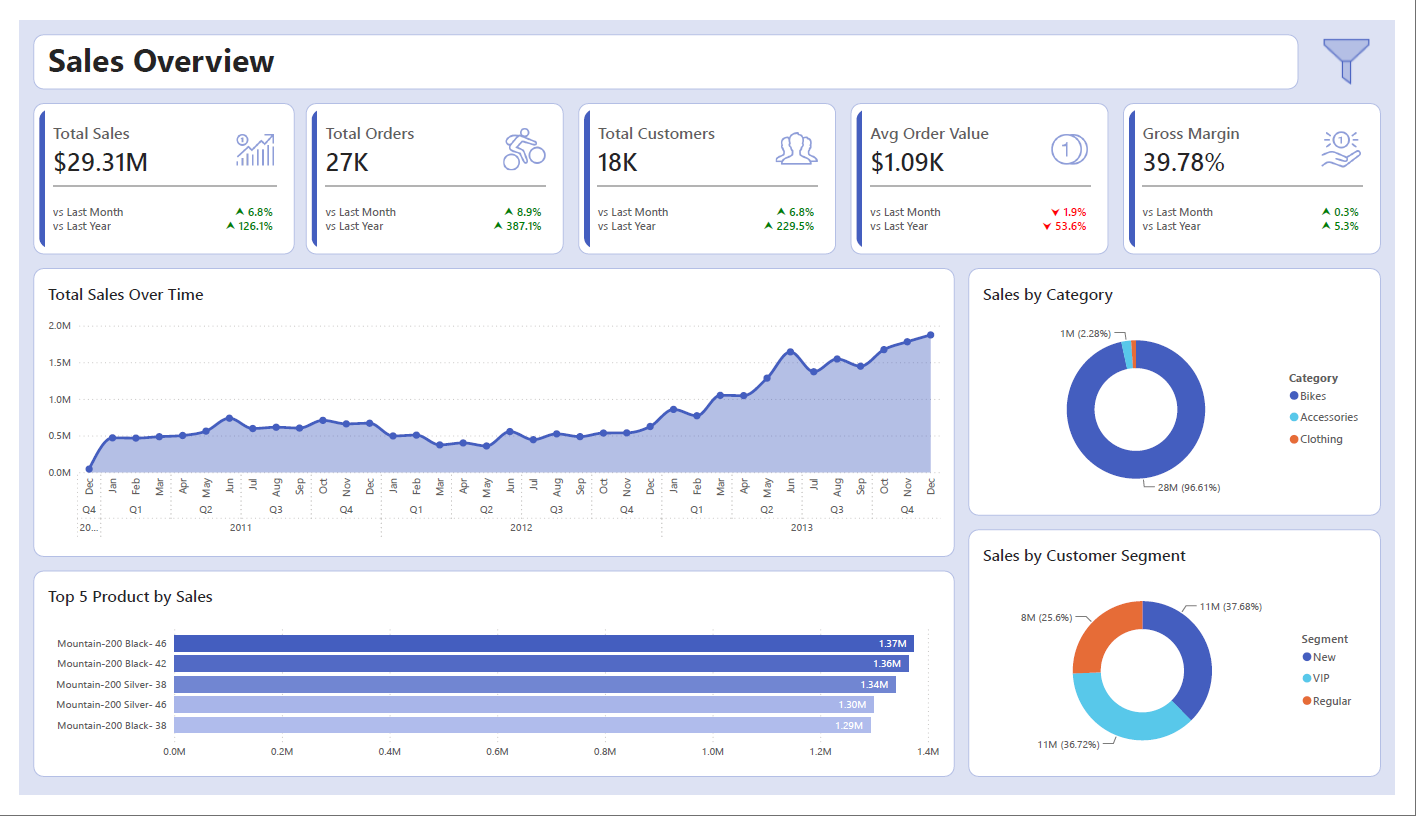

This screenshot's page, from the dashboard's own definition file:
{"tool":"powerbi","page":{"name":"Sales Overview Filter Pane","canvas":[1600,900],"ordinal":0},"visuals":[{"type":"clusteredBarChart","title":"Top 5 Product by Sales","fields":{"Category":["gold report_products.product_name"],"Y":["_Measures.Total Sales"]},"box":[16,640,1072,240],"z":5000},{"type":"donutChart","title":"Sales by Customer Segment","fields":{"Category":["gold report_customers.customer_segment"],"Y":["_Measures.Total Sales"]},"box":[1104,592,480,288],"z":7000},{"type":"donutChart","title":"Sales by Category","fields":{"Category":["gold report_products.category"],"Y":["_Measures.Total Sales"]},"box":[1104,288,480,288],"z":8000},{"type":"lineChart","title":"Total Sales Over Time","fields":{"Y":["_Measures.Total Sales"],"Category":["dim_date.Year Hierarchy.Year","dim_date.Year Hierarchy.Quarter","dim_date.Year Hierarchy.Month Short"]},"box":[16,288,1072,336],"z":9000},{"type":"cardVisual","fields":{"Data":["_Measures.Gross Margin %"]},"box":[1283.6,96.4,300,175.5],"z":11000},{"type":"cardVisual","fields":{"Data":["_Measures.Avg Order Value"]},"box":[966.8,96,300.3,176],"z":11007},{"type":"cardVisual","fields":{"Data":["_Measures.Total Customers"]},"box":[649.9,96,300.3,176],"z":11015},{"type":"cardVisual","fields":{"Data":["_Measures.Total Orders"]},"box":[332.9,96,300.3,176],"z":11031},{"type":"cardVisual","fields":{"Data":["_Measures.Total Sales"]},"box":[16,96,304,176],"z":11062},{"type":"actionButton","box":[16,16,1472,64],"z":11125},{"type":"actionButton","title":"Filter Button","box":[1504,16,80,64],"z":11250}]}

Visuals, with their boxes in screenshot pixels (x1, y1, x2, y2), scaled from the page's 1600x900 canvas onto the 1416x816 screenshot:
"Top 5 Product by Sales" clusteredBarChart: pyautogui.locateOnScreen(14, 580, 963, 798)
"Sales by Customer Segment" donutChart: pyautogui.locateOnScreen(977, 537, 1402, 798)
"Sales by Category" donutChart: pyautogui.locateOnScreen(977, 261, 1402, 522)
"Total Sales Over Time" lineChart: pyautogui.locateOnScreen(14, 261, 963, 566)
cardVisual - _Measures.Gross Margin %: pyautogui.locateOnScreen(1136, 87, 1401, 247)
cardVisual - _Measures.Avg Order Value: pyautogui.locateOnScreen(856, 87, 1121, 247)
cardVisual - _Measures.Total Customers: pyautogui.locateOnScreen(575, 87, 841, 247)
cardVisual - _Measures.Total Orders: pyautogui.locateOnScreen(295, 87, 560, 247)
cardVisual - _Measures.Total Sales: pyautogui.locateOnScreen(14, 87, 283, 247)
actionButton: pyautogui.locateOnScreen(14, 15, 1317, 73)
"Filter Button" actionButton: pyautogui.locateOnScreen(1331, 15, 1402, 73)
